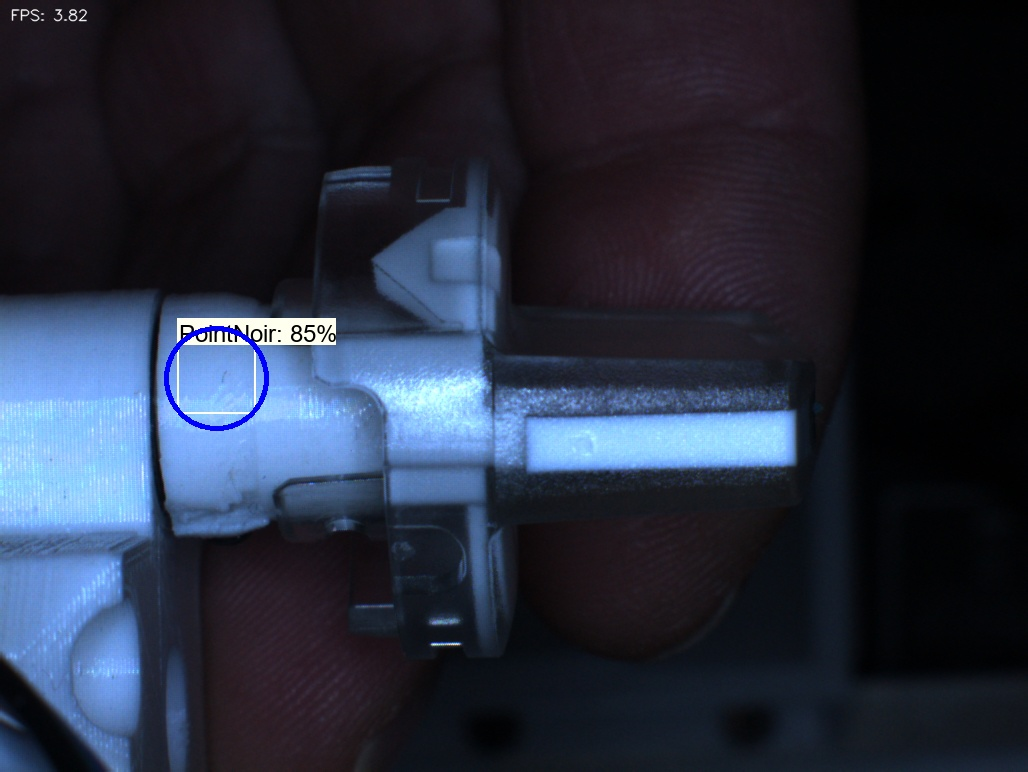DentOk: (347, 222, 424, 324)
